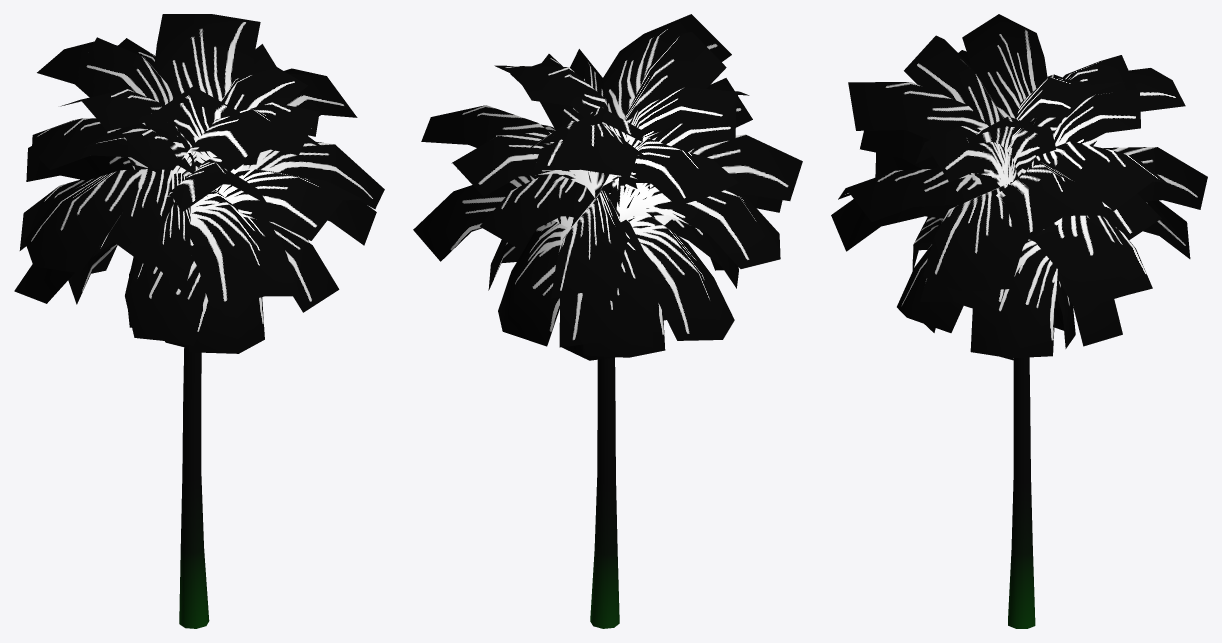
File: P_DesertCoconutPalm03.obj
3 views of the same model, side by side, from view 1: azimuth 30°, elevation 25°; view 2: azimuth 150°, elevation 25°; view 3: azimuth 270°, elevation 25° (orthographic). The views are drawn at different scales.
Bounding box in the file's own units: 7.09 × 11.85 × 7.14.
